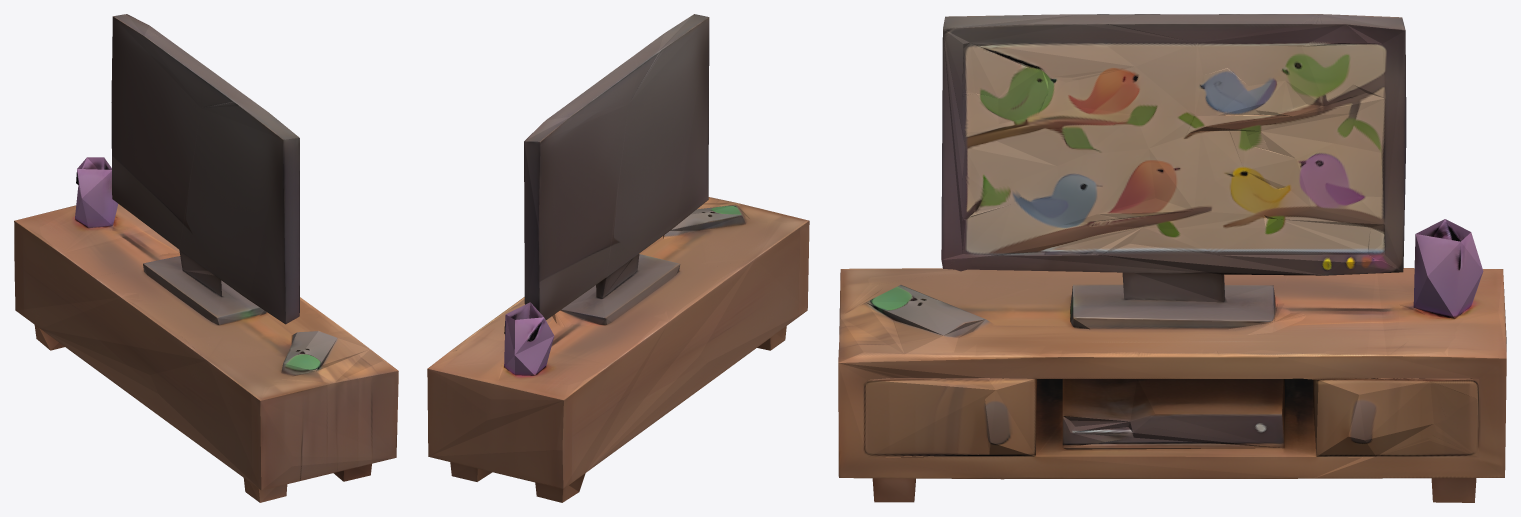
Rendered from Television.glb.
The picture shows the model from 3 angles, left to right: view 1: azimuth 30°, elevation 25°; view 2: azimuth 150°, elevation 25°; view 3: azimuth 270°, elevation 25°; orthographic projection. The views are drawn at different scales.
Parts seen in each view (by area): view 1: tripo_node_72efea26-ae27-417f-a93a-6c91f7fd1c4f; view 2: tripo_node_72efea26-ae27-417f-a93a-6c91f7fd1c4f; view 3: tripo_node_72efea26-ae27-417f-a93a-6c91f7fd1c4f.
Part boxes in pixels (<box>): tripo_node_72efea26-ae27-417f-a93a-6c91f7fd1c4f: <box>14,14,398,502</box>; tripo_node_72efea26-ae27-417f-a93a-6c91f7fd1c4f: <box>427,14,809,502</box>; tripo_node_72efea26-ae27-417f-a93a-6c91f7fd1c4f: <box>838,14,1506,502</box>.
Bounding box in the file's own units: 0.3351 × 0.7409 × 1.
1 material, 1 textured.
